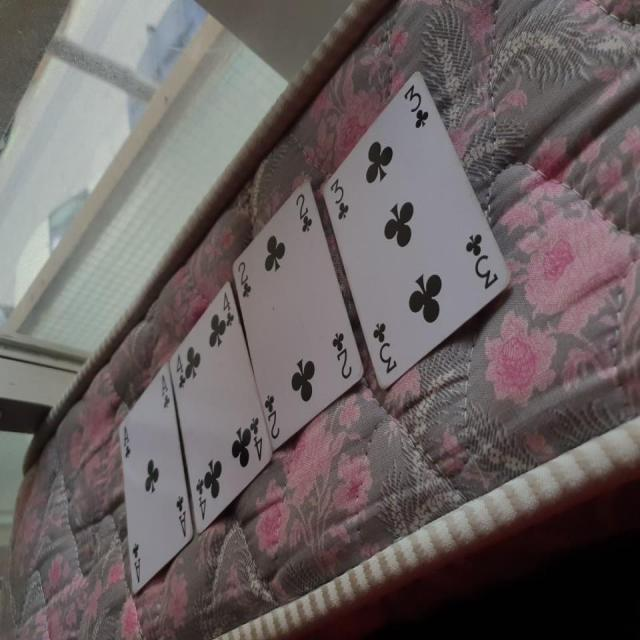2 Trefoils: (231, 180, 364, 452)
3 Trefoils: (318, 68, 514, 393)
4 Trefoils: (169, 279, 274, 535)
A Trefoils: (116, 361, 194, 596)
